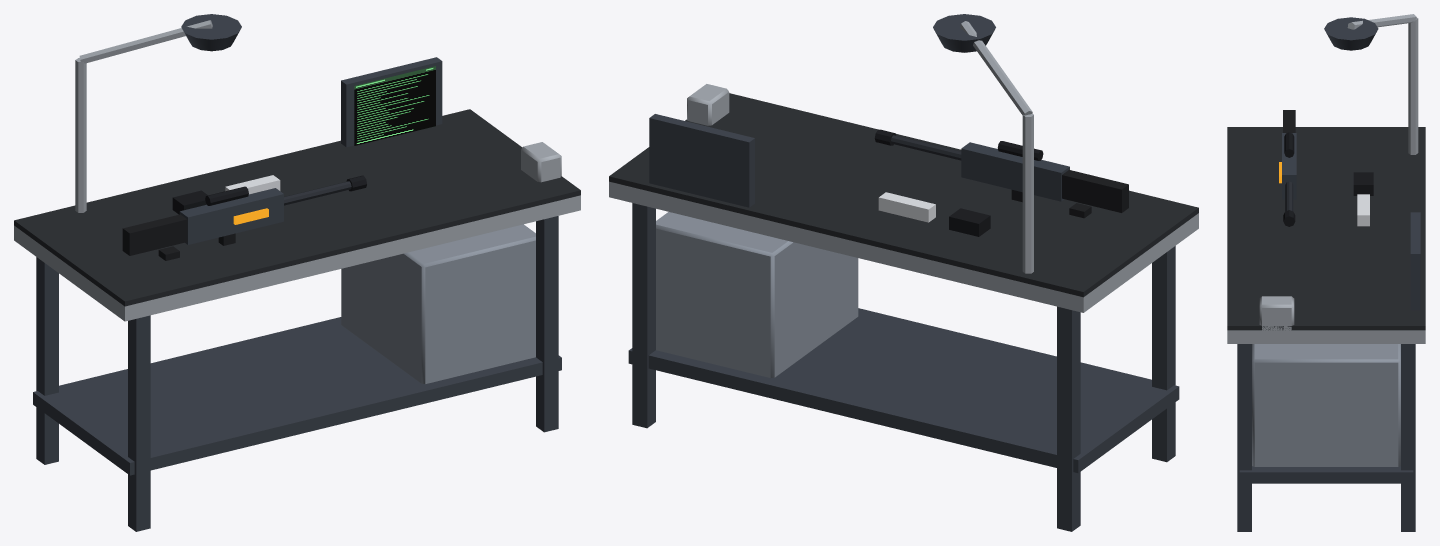
Rendered from weaponrack_weapons_inspection_bench.glb.
The picture shows the model from 3 angles, left to right: view 1: azimuth 30°, elevation 25°; view 2: azimuth 150°, elevation 25°; view 3: azimuth 270°, elevation 25°; orthographic projection. The views are drawn at different scales.
Parts seen in each view (by area): view 1: weaponrack_weapons_inspection_bench; view 2: weaponrack_weapons_inspection_bench; view 3: weaponrack_weapons_inspection_bench.
Part boxes in pixels (<box>): weaponrack_weapons_inspection_bench: <box>14,14,580,531</box>; weaponrack_weapons_inspection_bench: <box>609,14,1198,531</box>; weaponrack_weapons_inspection_bench: <box>1227,14,1425,531</box>.
Bounding box in the file's own units: 1.9 × 1.72 × 0.8.
12 materials, 1 textured.
